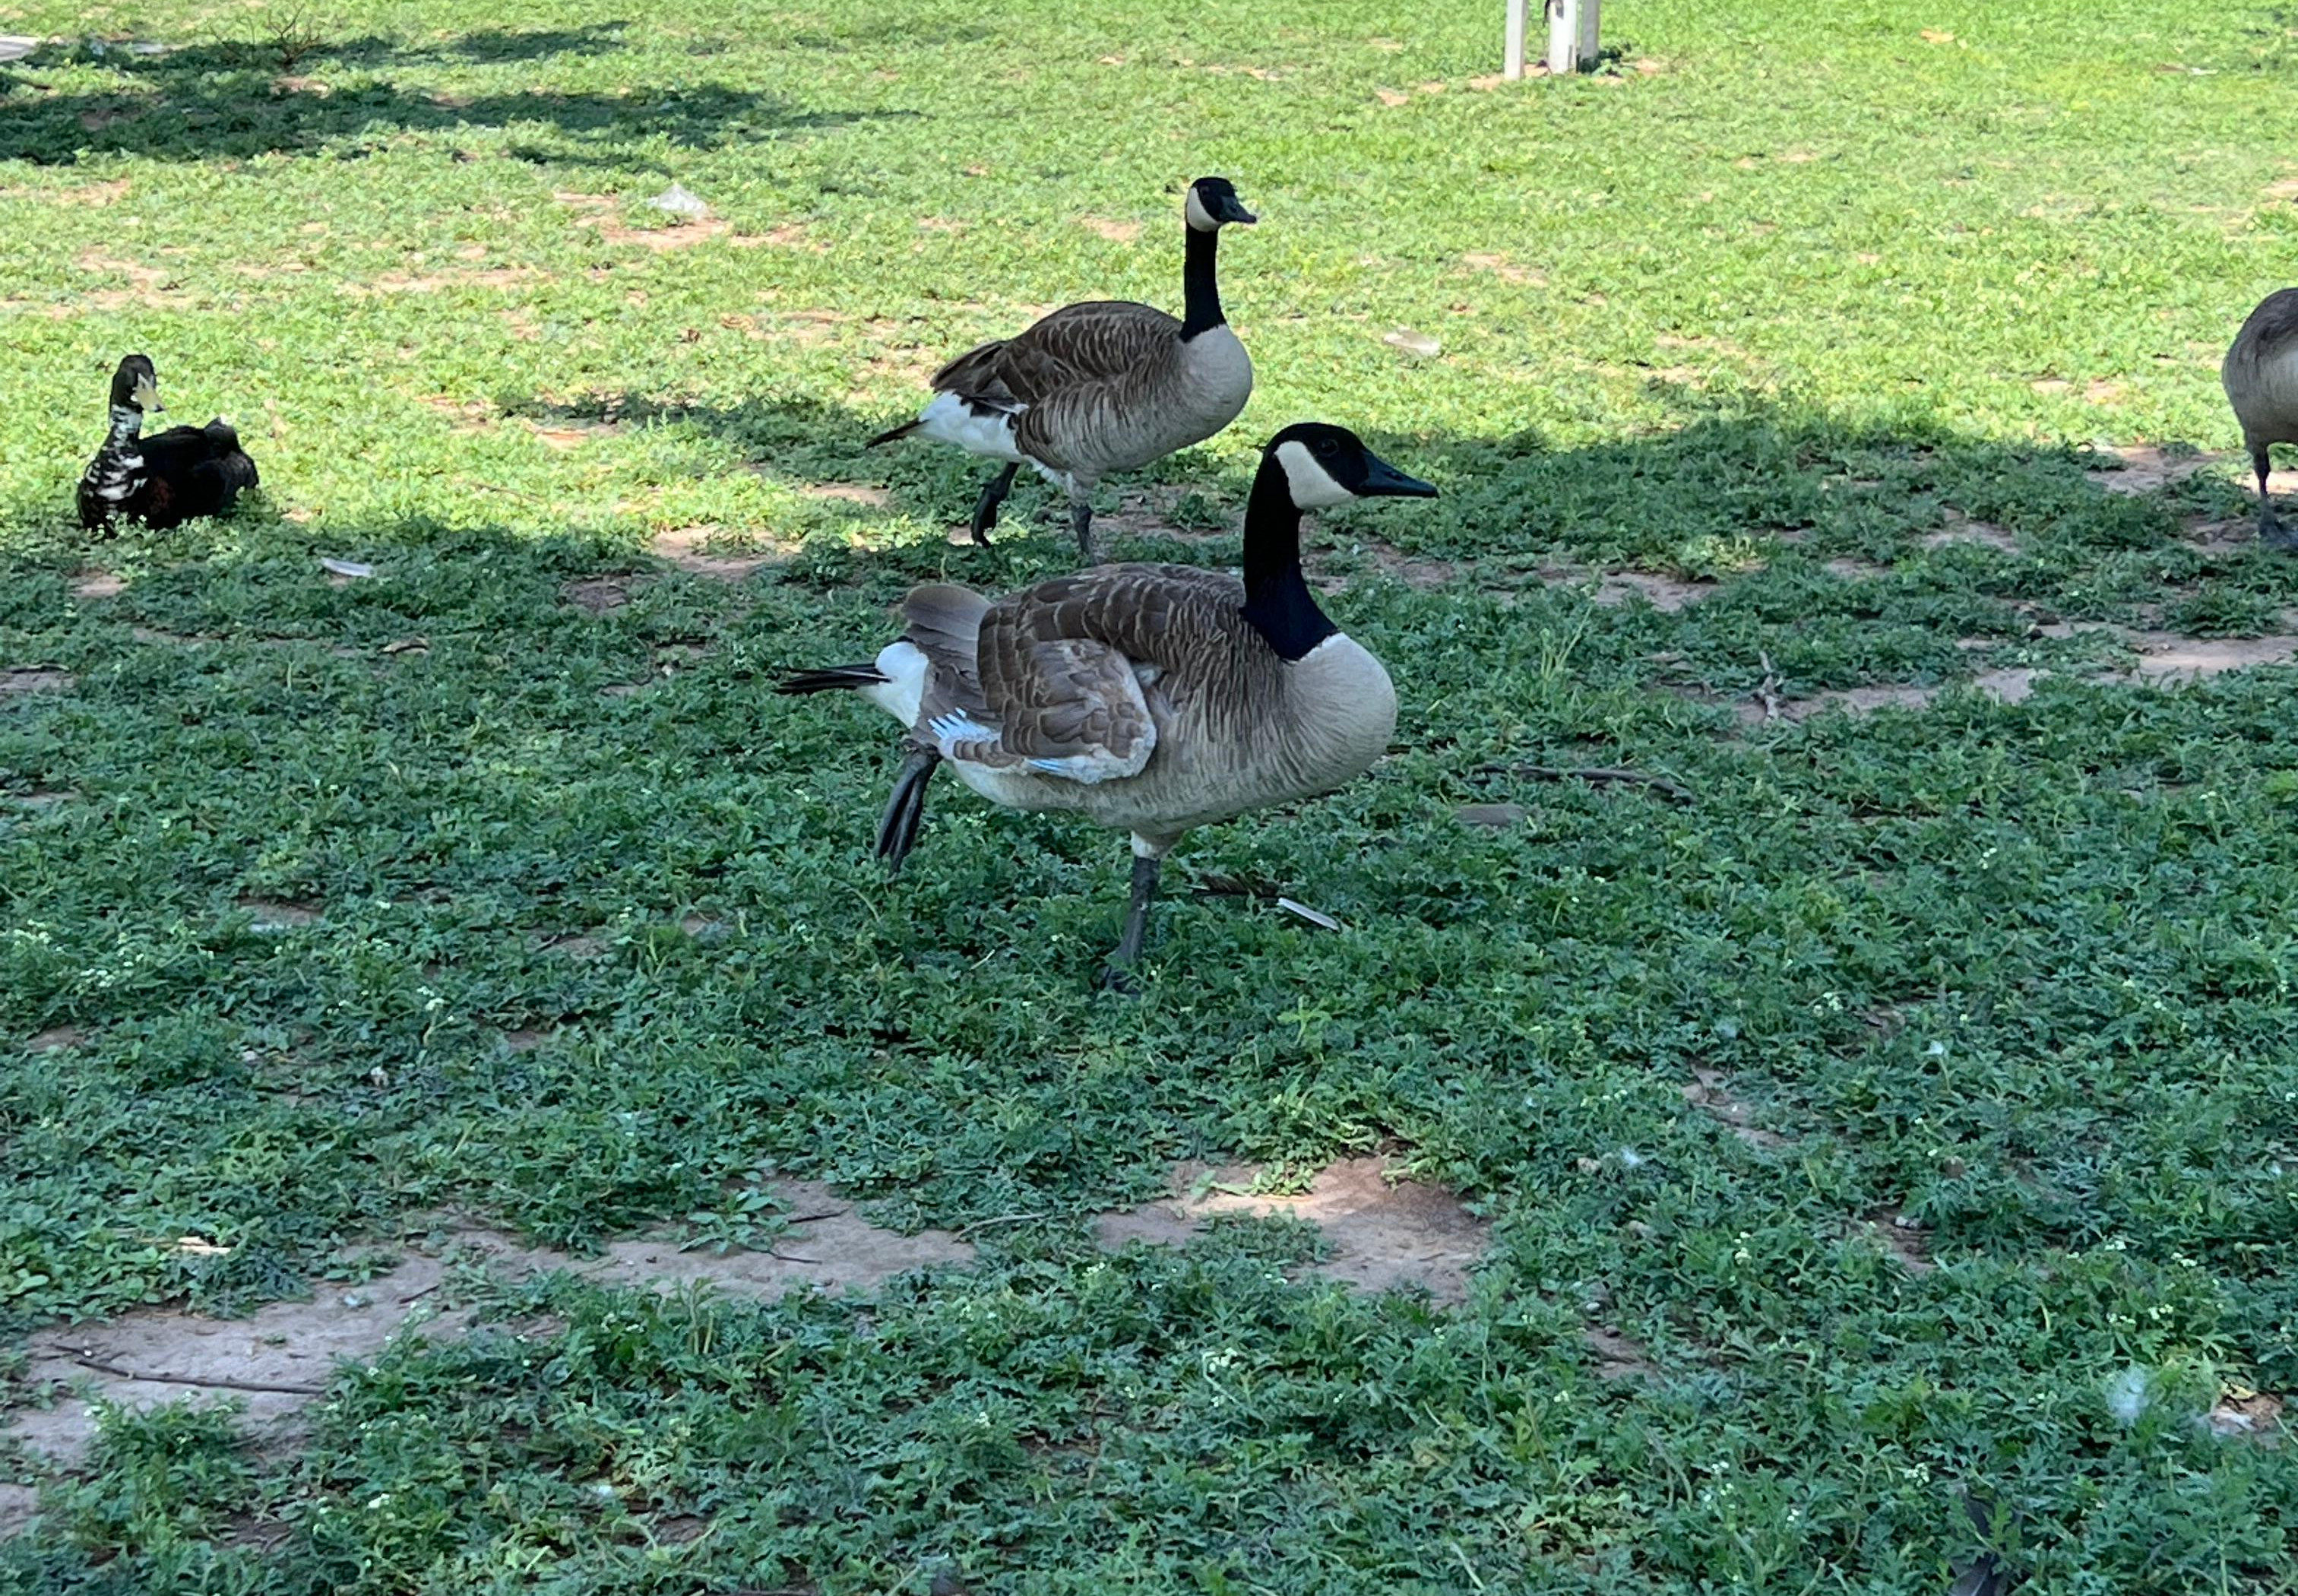goose: (803, 424, 1441, 1008), (864, 173, 1266, 547)
